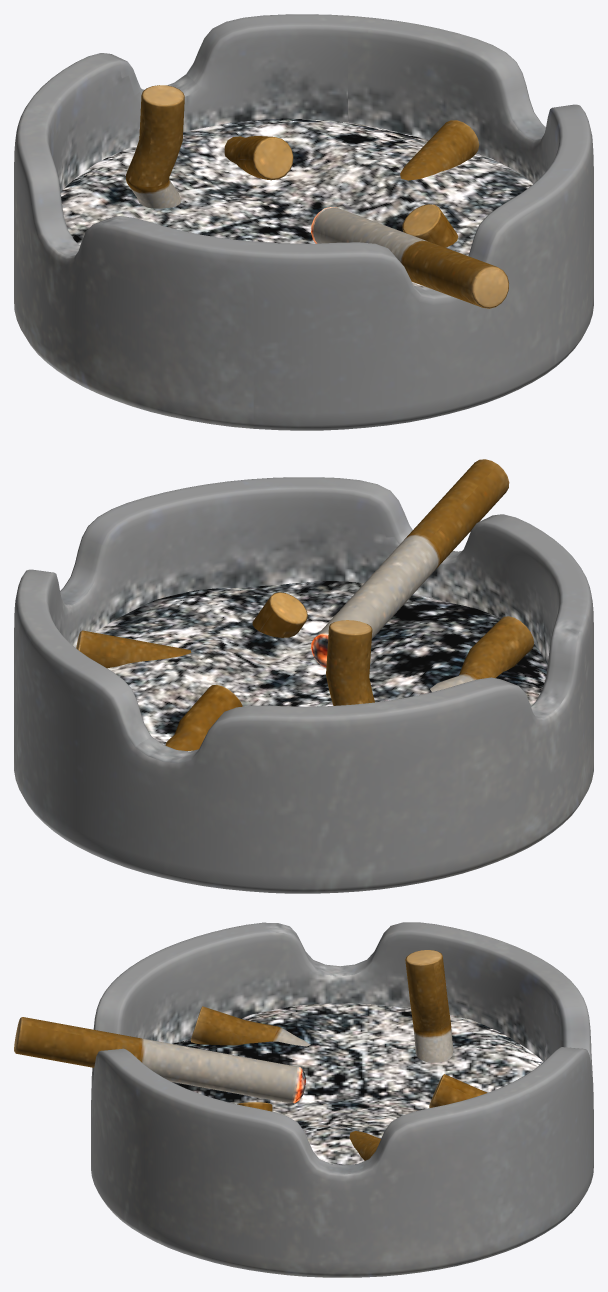
The model's file is ashtray.glb.
3 views of the same model, one above another, from view 1: azimuth 30°, elevation 25°; view 2: azimuth 150°, elevation 25°; view 3: azimuth 270°, elevation 25° (orthographic). The views are drawn at different scales.
Visible parts, largest first — view 1: Object_2; view 2: Object_2; view 3: Object_2.
Boxes of the visible parts, x1,y1,x2,y2 form: Object_2: [14, 14, 593, 430]; Object_2: [14, 459, 593, 893]; Object_2: [14, 922, 593, 1277].
Size of the model in its own units: 0.1267 by 0.0509 by 0.1461.
Materials: 1 (1 with a texture image).
